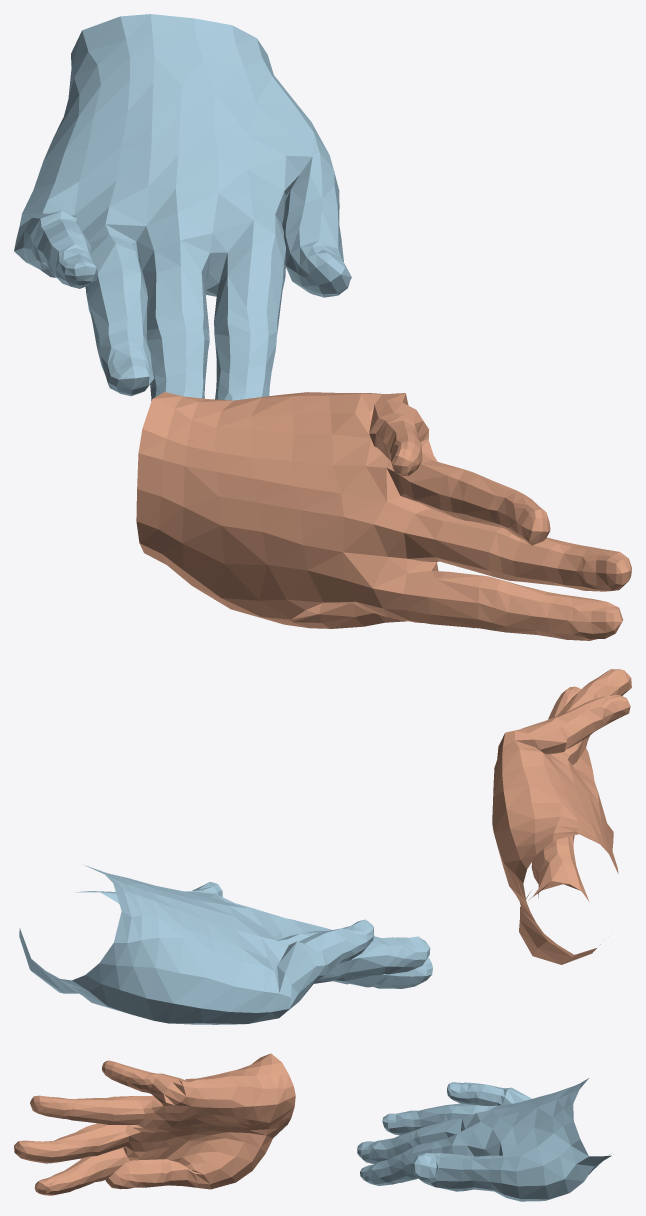
File: frame_012.glb
3 views of the same model, one above another, from view 1: azimuth 30°, elevation 25°; view 2: azimuth 150°, elevation 25°; view 3: azimuth 270°, elevation 25° (orthographic). The views are drawn at different scales.
Parts seen in each view (by area): view 1: world; view 2: world; view 3: world.
Boxes of the visible parts, x1,y1,x2,y2 form: world: (14, 14, 631, 640); world: (19, 669, 631, 1024); world: (14, 1053, 611, 1201).
Bounding box in the file's own units: 0.1646 × 0.1037 × 0.3578.
